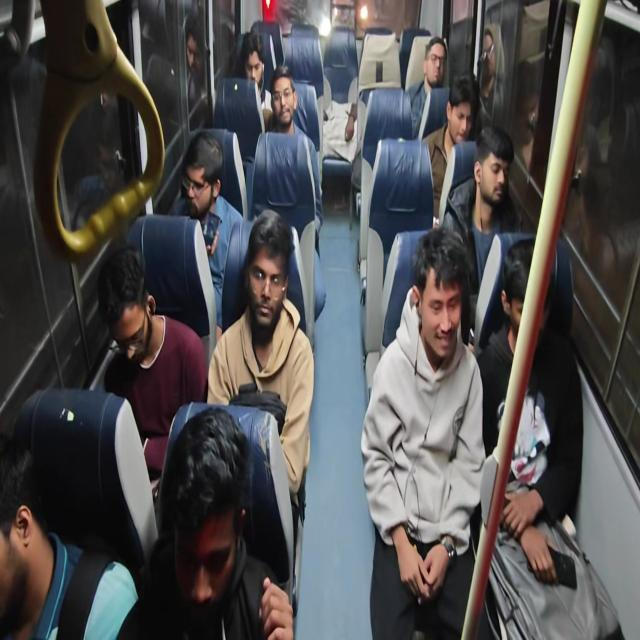person: (162, 408, 262, 625), (409, 215, 469, 379), (2, 412, 45, 640), (97, 245, 162, 375), (244, 200, 296, 344), (498, 235, 553, 358), (181, 126, 225, 226), (478, 127, 514, 216), (232, 21, 268, 99), (262, 67, 302, 133), (444, 68, 476, 150), (420, 25, 451, 94)
